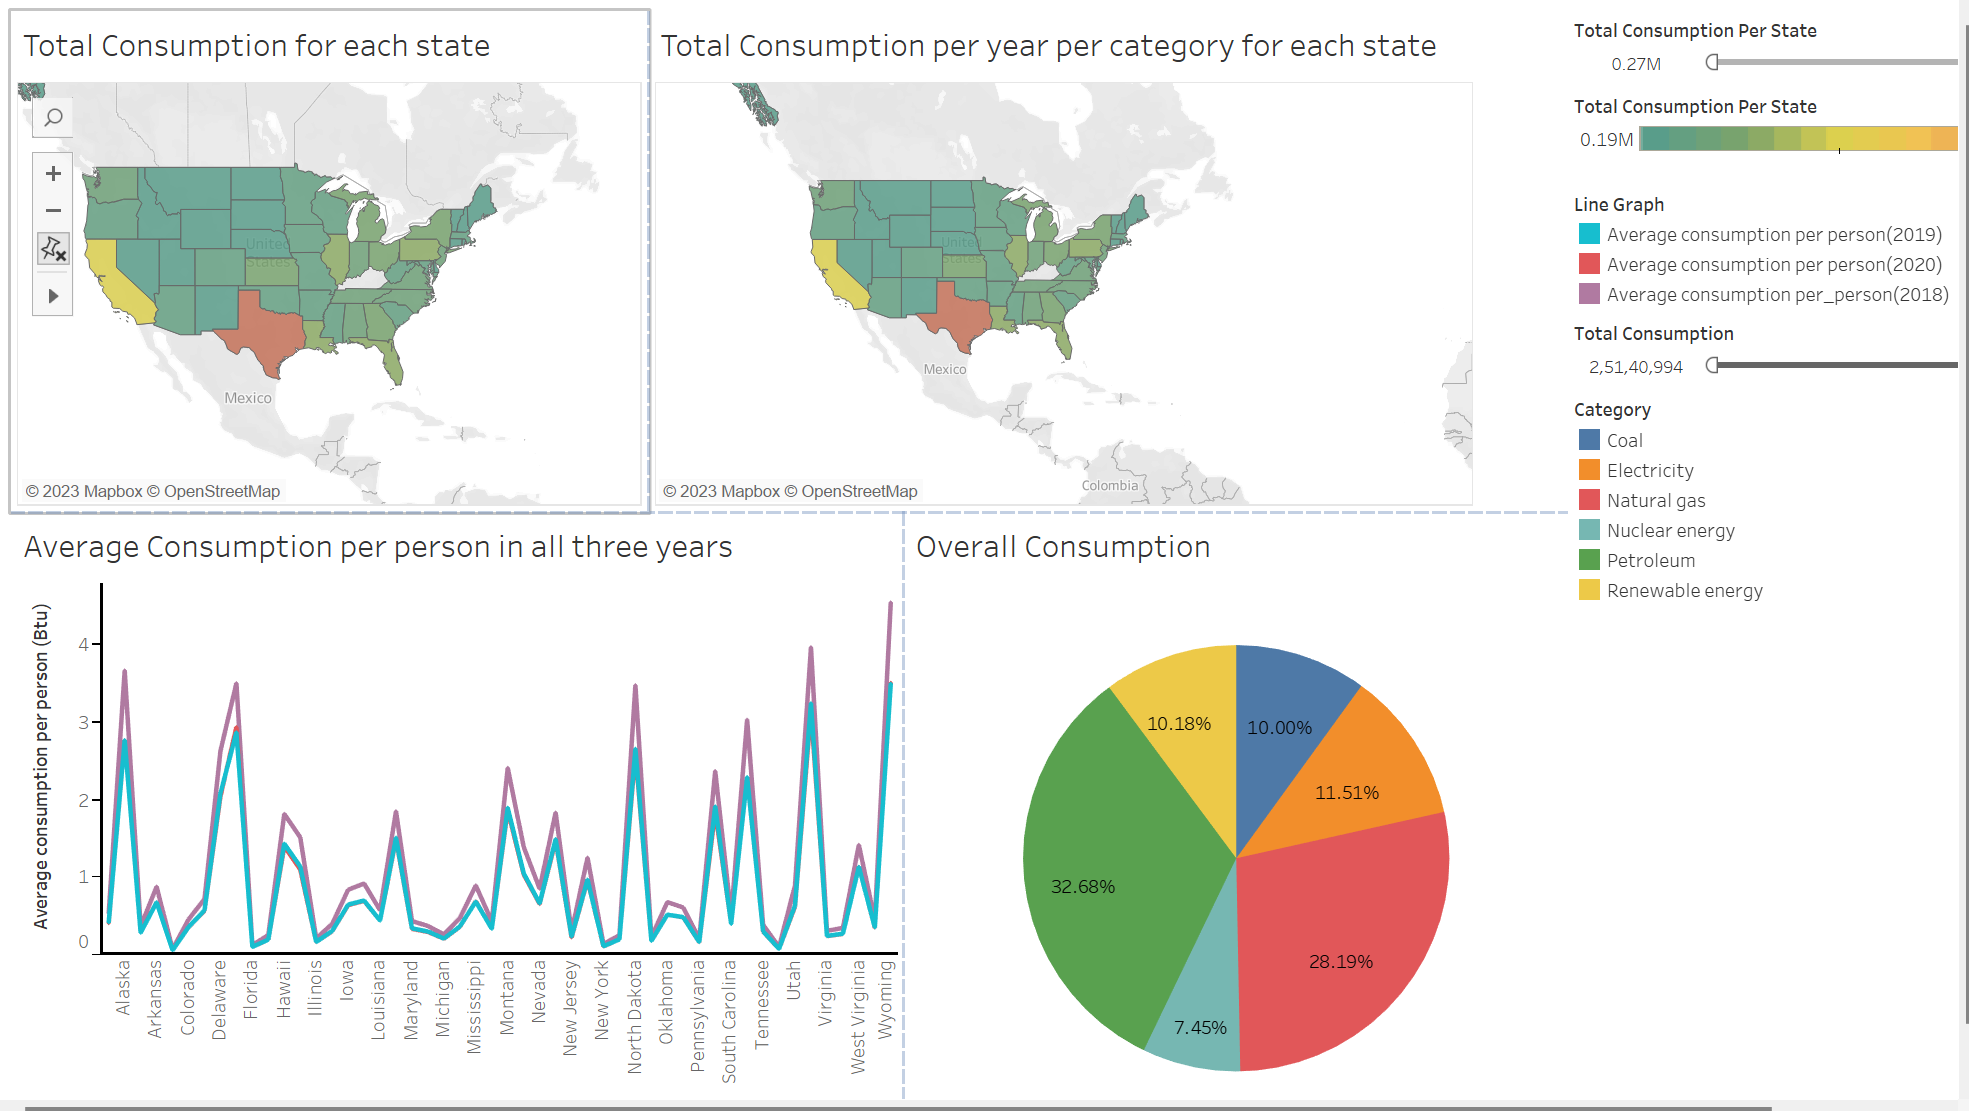

This screenshot's page, from the dashboard's own definition file:
{"tool":"tableau","page":{"name":"Dashboard","canvas":[1800,800],"ordinal":0},"visuals":[{"type":"worksheet","title":"TotalConsumptionGraph","mark":"Multipolygon","box":[8,8,578.9,348]},{"type":"worksheet","title":"Total Consumption per year state graph","mark":"Automatic","box":[586.9,8,835.1,348]},{"type":"filter","title":"TotalConsumptionGraph","param":"[federated.1aqspm10zvk5s21gs3lb21qi9nee].[usr:Calculation_2309783676865818624:qk","box":[1422,8,370,51]},{"type":"legend","title":"TotalConsumptionGraph","param":"[federated.1aqspm10zvk5s21gs3lb21qi9nee].[usr:Calculation_2309783676865818624:qk","box":[1422,59,370,65]},{"type":"legend","title":"Line_graph","param":"[federated.1aqspm10zvk5s21gs3lb21qi9nee].[:Measure Names]","box":[1422,124,370,86]},{"type":"filter","title":"Overall Consumption","param":"[federated.1aqspm10zvk5s21gs3lb21qi9nee].[usr:Calculation_864409672626696195:qk]","box":[1422,210,370,51]},{"type":"legend","title":"Overall Consumption","param":"[federated.1aqspm10zvk5s21gs3lb21qi9nee].[none:Category:nk]","box":[1422,261,370,146]},{"type":"worksheet","title":"Line_graph","mark":"Line","cols":["States"],"box":[8,356,811,436]},{"type":"worksheet","title":"Overall Consumption","mark":"Pie","box":[819,356,603,436]}]}

Visuals, with their boxes on the page's 1800x800 design canvas (x1, y1, x2, y2). These are canvas units, not pixel positions in the 1969x1111 screenshot, which may show the page scaled, cropped or inside an application window:
"TotalConsumptionGraph" worksheet (Multipolygon marks): [8,8,587,356]
"Total Consumption per year state graph" worksheet: [587,8,1422,356]
"TotalConsumptionGraph" filter: [1422,8,1792,59]
"TotalConsumptionGraph" legend: [1422,59,1792,124]
"Line_graph" legend: [1422,124,1792,210]
"Overall Consumption" filter: [1422,210,1792,261]
"Overall Consumption" legend: [1422,261,1792,407]
"Line_graph" worksheet (Line marks): [8,356,819,792]
"Overall Consumption" worksheet (Pie marks): [819,356,1422,792]
